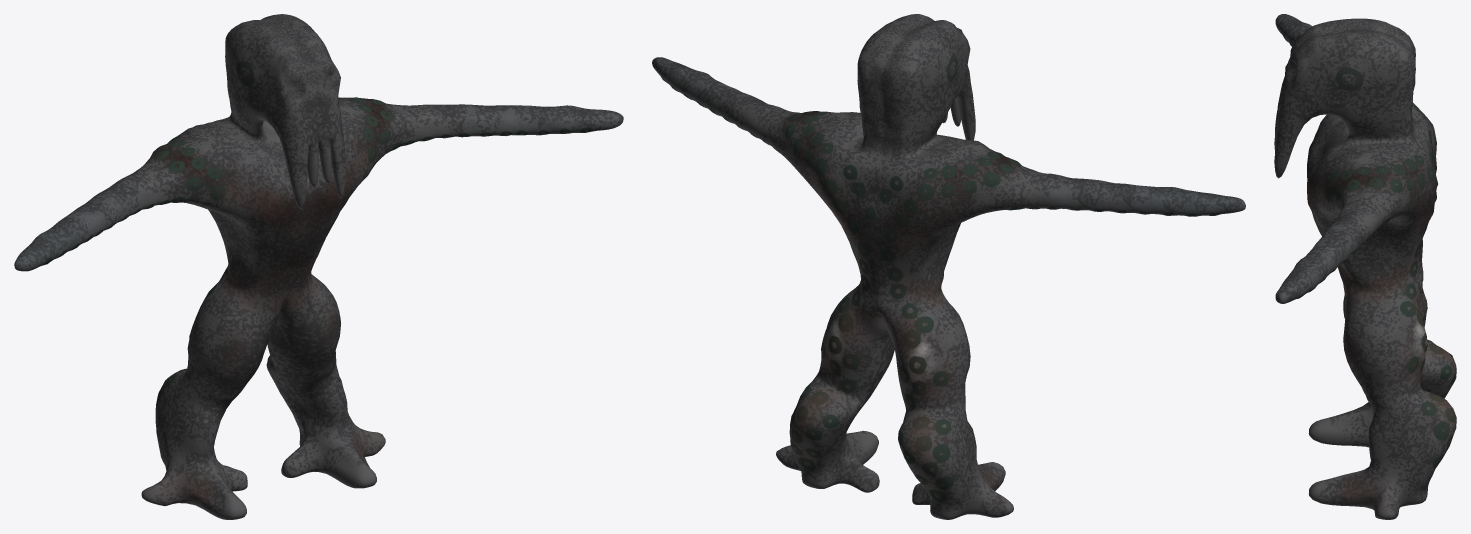
The model's file is monster_placeholder.fbx.
3 renders of one model, left to right at view 1: azimuth 30°, elevation 25°; view 2: azimuth 150°, elevation 25°; view 3: azimuth 270°, elevation 25°, orthographic. The views are drawn at different scales.
Visible parts, largest first — view 1: Box001_1; view 2: Box001_1; view 3: Box001_1.
Part boxes in pixels (left/top/right/bottom): Box001_1: left=14, top=14, right=623, bottom=519; Box001_1: left=652, top=14, right=1245, bottom=519; Box001_1: left=1274, top=14, right=1456, bottom=519.
Size of the model in its own units: 964 by 710 by 262.
Materials: 1 (1 with a texture image).
